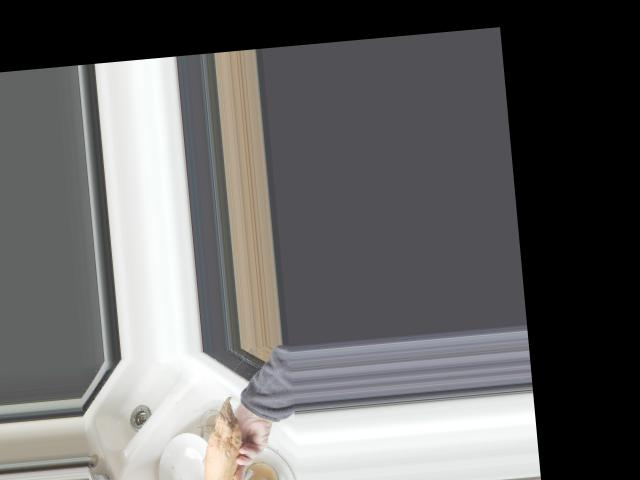sweet_potato: (195, 395, 247, 480)
